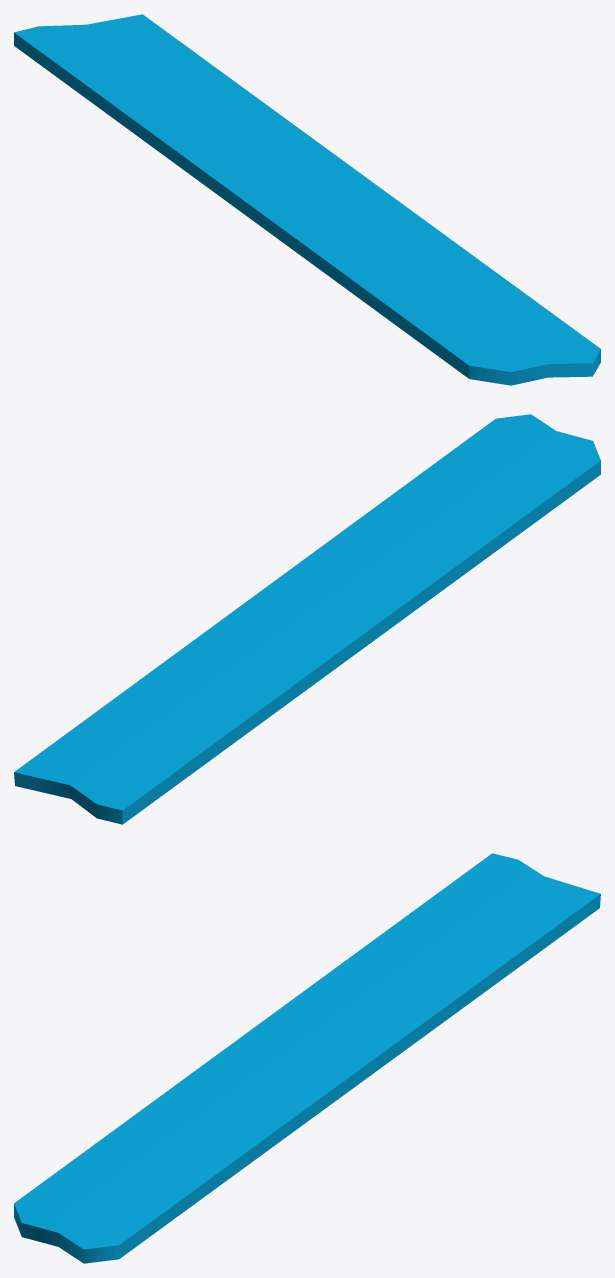
Rendered from Board_01_Lod0.fbx.
The picture shows the model from 3 angles, top to bottom: view 1: azimuth 30°, elevation 25°; view 2: azimuth 150°, elevation 25°; view 3: azimuth 330°, elevation 25°; orthographic projection. The views are drawn at different scales.
Parts seen in each view (by area): view 1: Board_01_Lod0; view 2: Board_01_Lod0; view 3: Board_01_Lod0.
Boxes of the visible parts, box(x1,y1,x2,y2) form: Board_01_Lod0: box(14, 14, 600, 385); Board_01_Lod0: box(14, 414, 600, 824); Board_01_Lod0: box(14, 853, 600, 1263).
Size of the model in its own units: 20.61 by 2.62 by 149.
